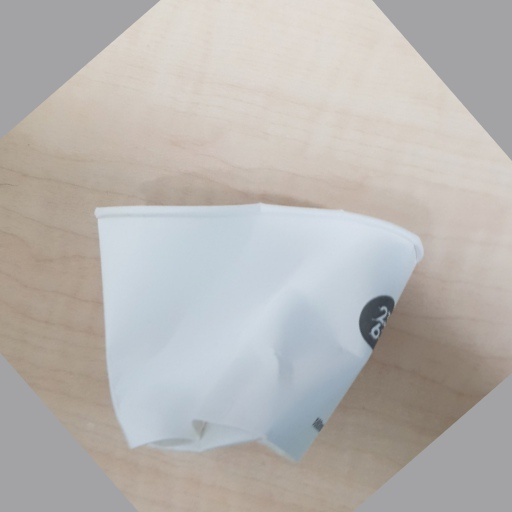Paper_1: (95, 201, 424, 459)
